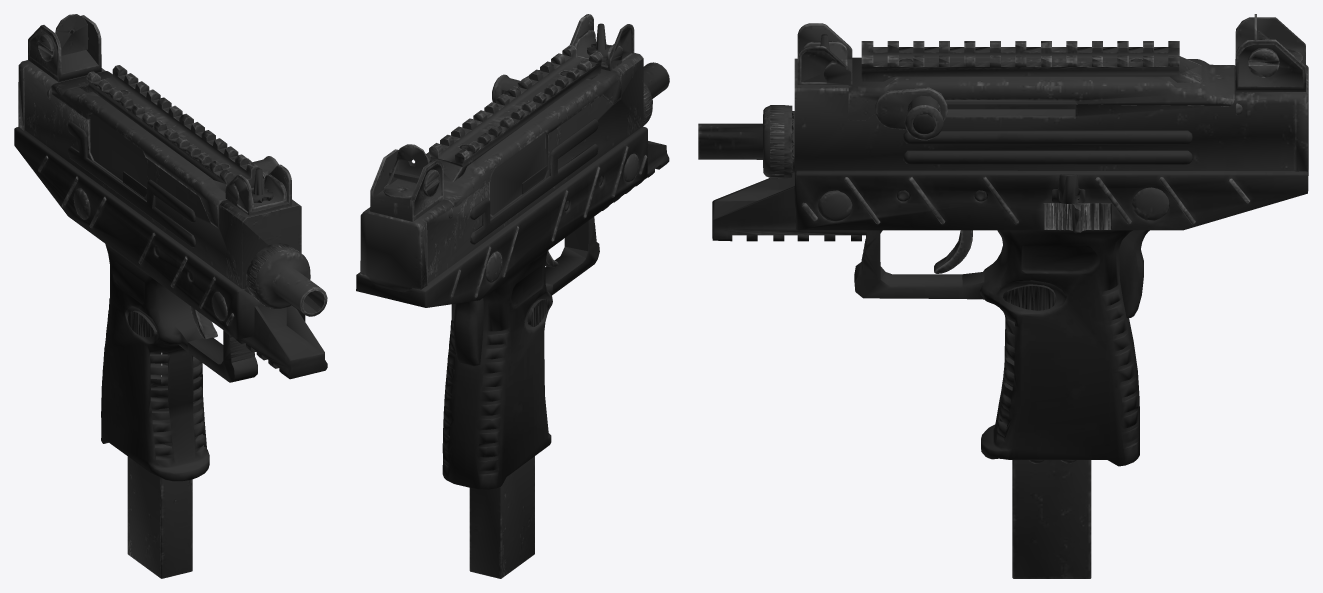
The model's file is smg2.glb.
3 views of the same model, side by side, from view 1: azimuth 30°, elevation 25°; view 2: azimuth 150°, elevation 25°; view 3: azimuth 270°, elevation 25° (orthographic). The views are drawn at different scales.
Visible parts, largest first — view 1: body; view 2: body; view 3: body.
Part boxes in pixels (x1,y1,x2,y2): body: [14, 14, 327, 578]; body: [356, 14, 669, 578]; body: [698, 14, 1308, 578].
Size of the model in its own units: 0.0707 by 0.331 by 0.33.
1 material, 1 textured.
